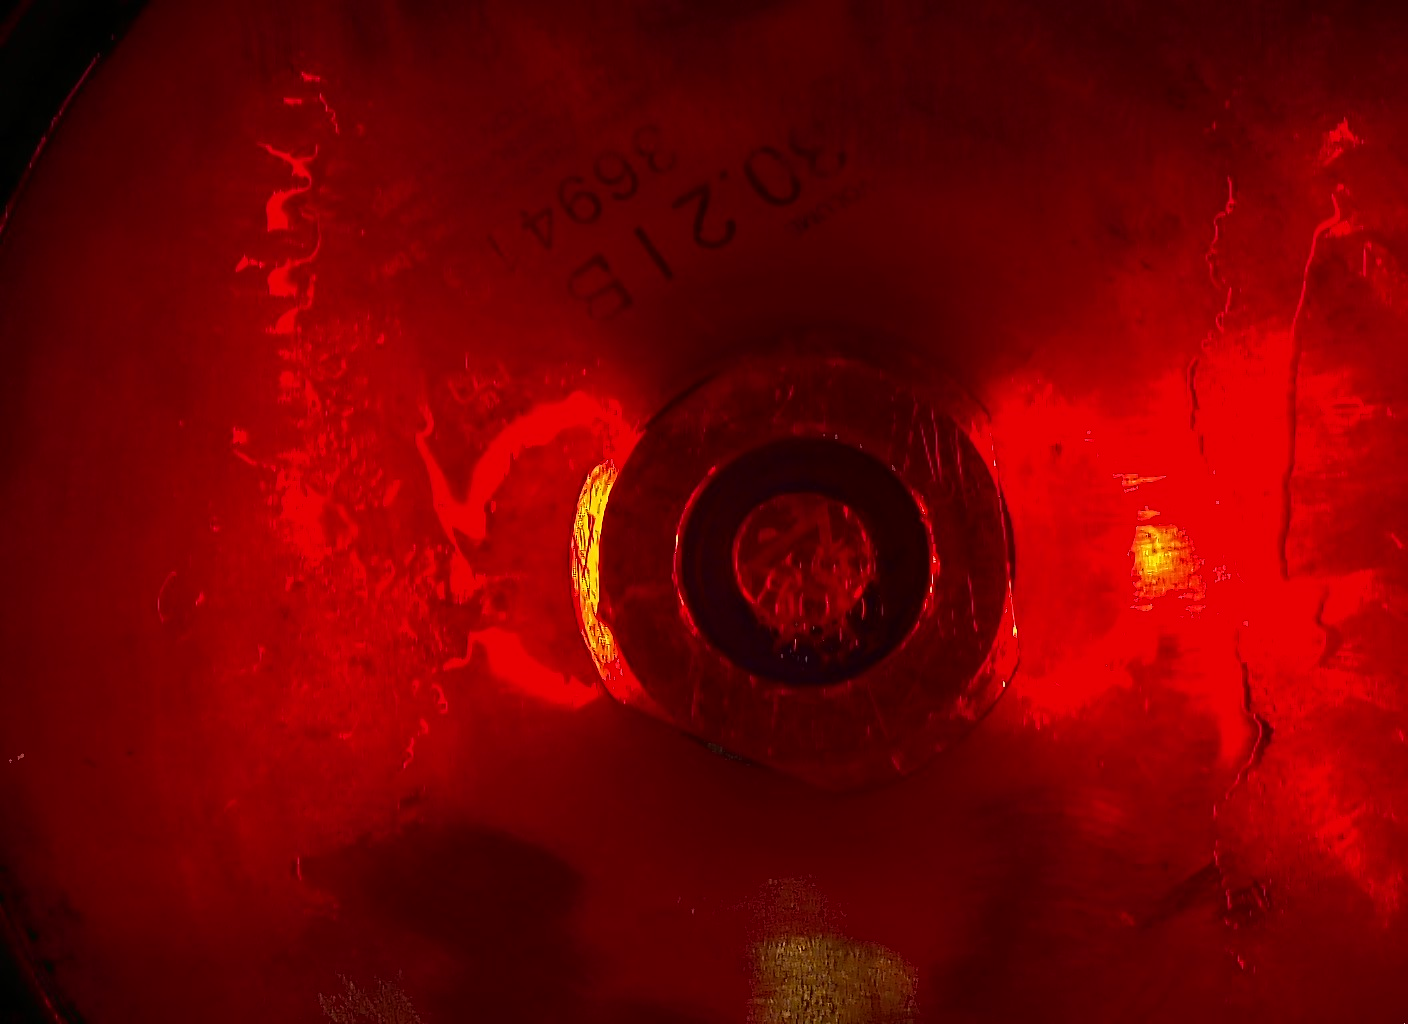pena: (749, 543, 893, 680)
